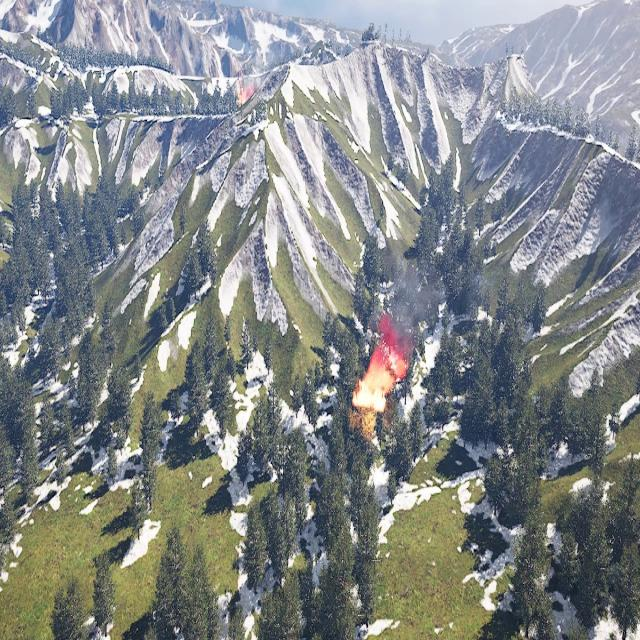fire: (352, 362, 392, 414), (238, 87, 254, 105)
smoke: (370, 258, 485, 380)
